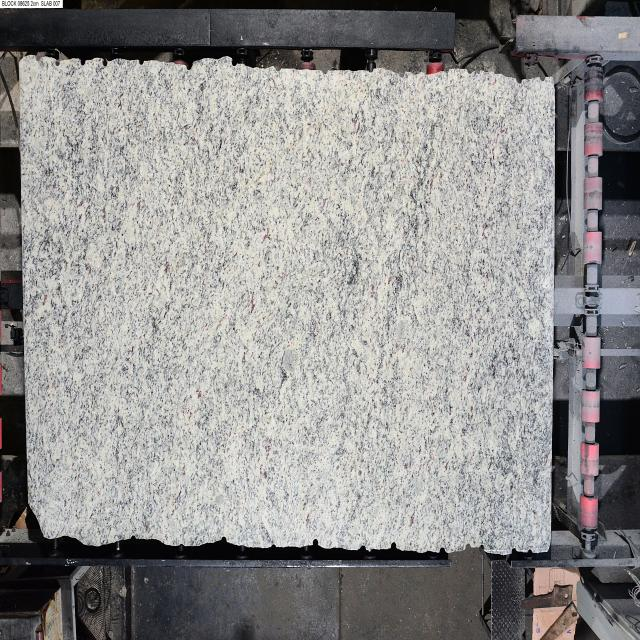chapa: (20, 56, 554, 553)
